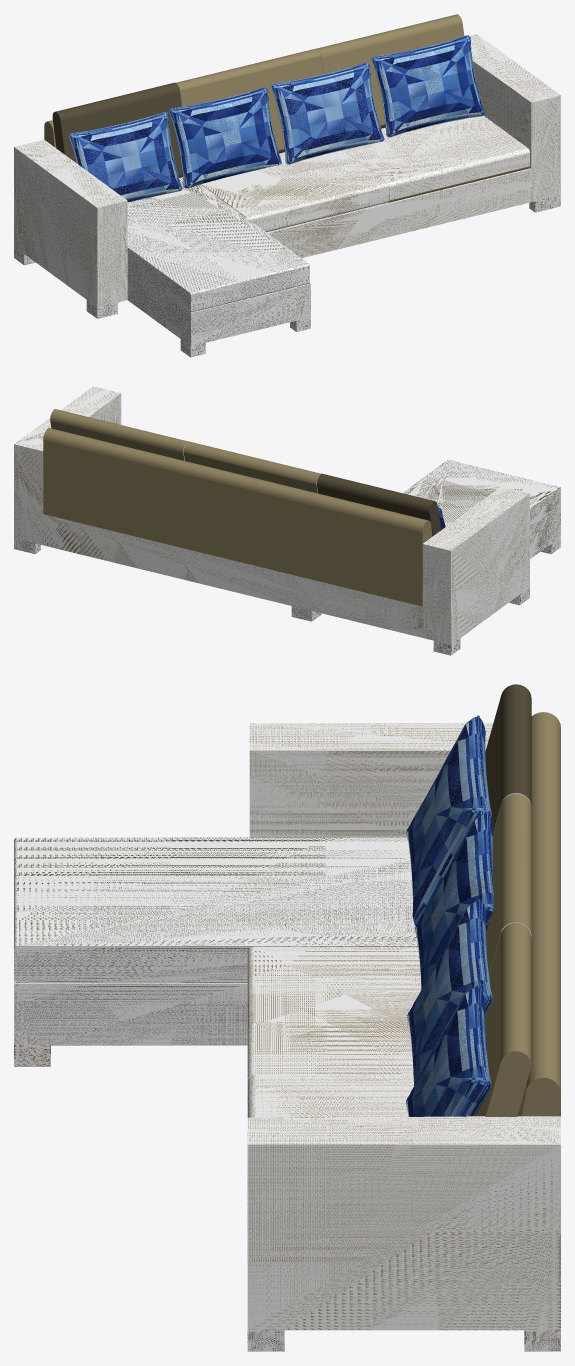
The picture shows the model from 3 angles, top to bottom: view 1: azimuth 30°, elevation 25°; view 2: azimuth 150°, elevation 25°; view 3: azimuth 270°, elevation 25°; orthographic projection. The views are drawn at different scales.
Visible parts, largest first — view 1: SketchUp (×9); view 2: SketchUp (×5); view 3: SketchUp (×12).
Part boxes in pixels (x1=…): SketchUp (×9): x1=14, y1=14, x2=560, y2=346; SketchUp (×5): x1=14, y1=386, x2=560, y2=644; SketchUp (×12): x1=14, y1=684, x2=560, y2=1351.
Bounding box in the file's own units: 674 × 370 × 204.
6 materials, 1 textured.
